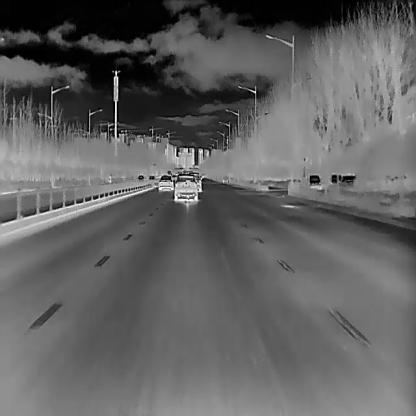car: (174, 173, 198, 202), (159, 173, 173, 191), (308, 173, 322, 189), (328, 173, 342, 184), (341, 174, 355, 185), (135, 174, 144, 180), (147, 174, 155, 179)
